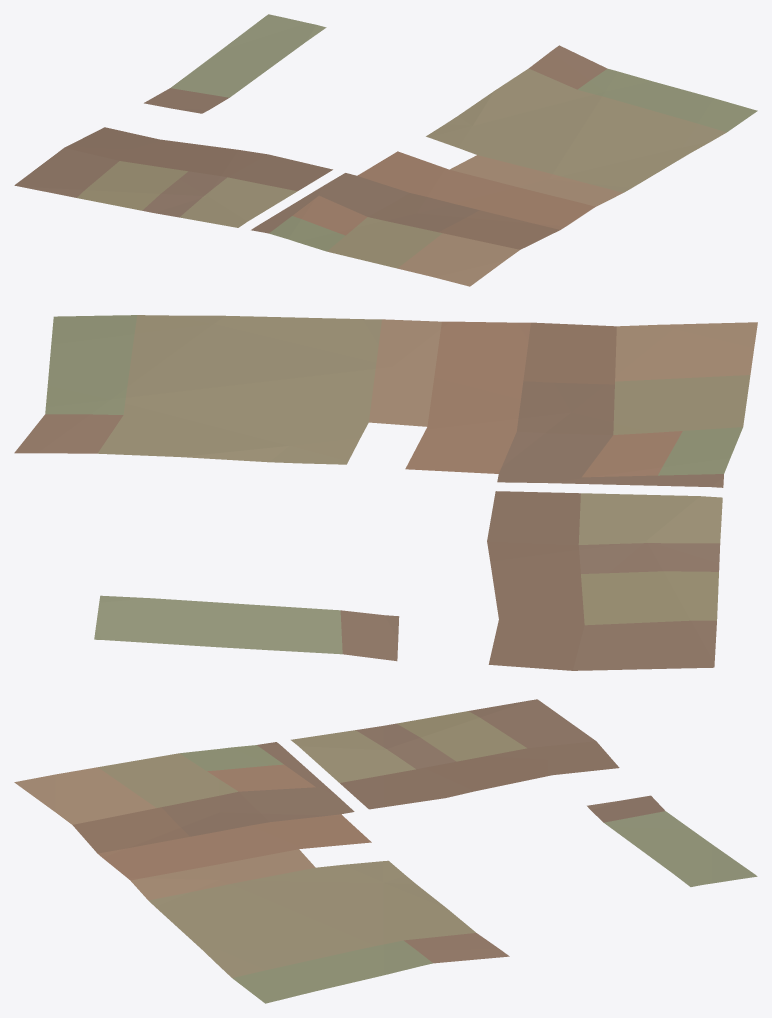
Rendered from farm_21_12_soil.glb.
3 renders of one model, top to bottom at view 1: azimuth 30°, elevation 25°; view 2: azimuth 150°, elevation 25°; view 3: azimuth 270°, elevation 25°, orthographic. The views are drawn at different scales.
Visible parts, largest first — view 1: geometry_0; view 2: geometry_0; view 3: geometry_0.
Part boxes in pixels (x1=…): geometry_0: x1=14, y1=14, x2=757, y2=286; geometry_0: x1=14, y1=315, x2=757, y2=670; geometry_0: x1=14, y1=699, x2=757, y2=1003.
Bounding box in the file's own units: 372 × 15.65 × 363.
